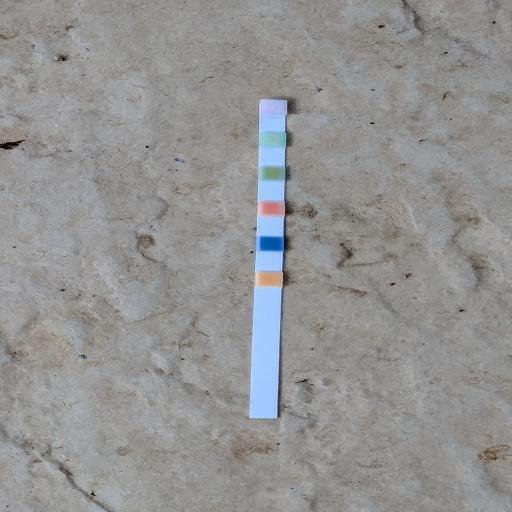strip: (250, 98, 288, 419)
